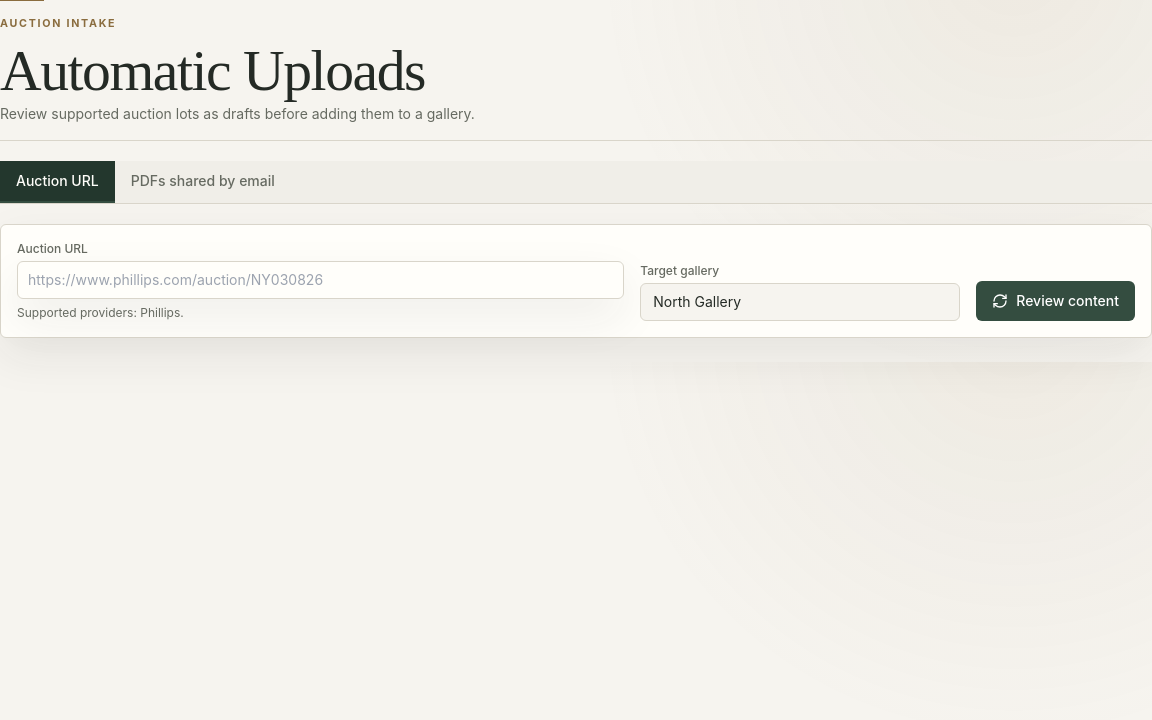
Test: AutomaticUploadsPage › lists emailed PDFs inside Automatic Uploads and opens their drafts
The width and height of the screenshot is (1152, 720).
Click the tab "PDFs shared by email".
click(203, 182)  # box [115,161,291,203]
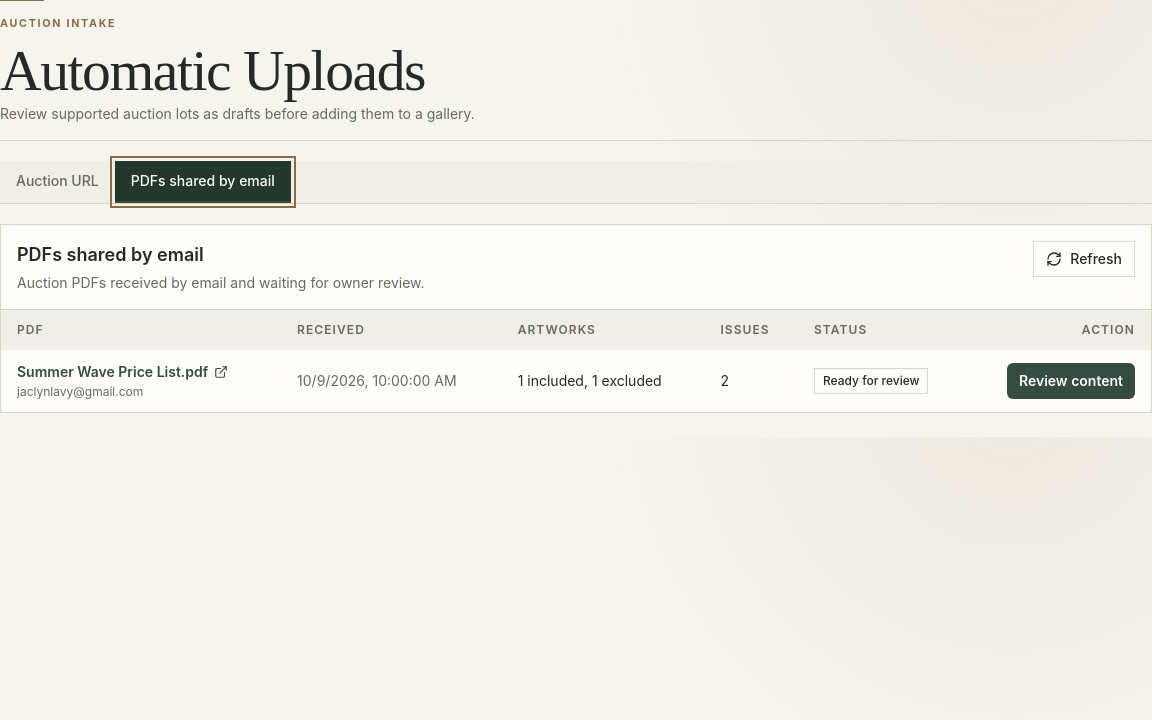
Expected: the button "Summer Wave Price List.pdf" is shown
Expected: the text "jaclynlavy@gmail.com" is shown, [17,384,143,399]
Expected: the text "Ready for review" is shown, [814,368,928,394]
Click the button with aria-label "Open Summer Wave Price List.pdf".
click(123, 372)  # box [17,362,228,382]
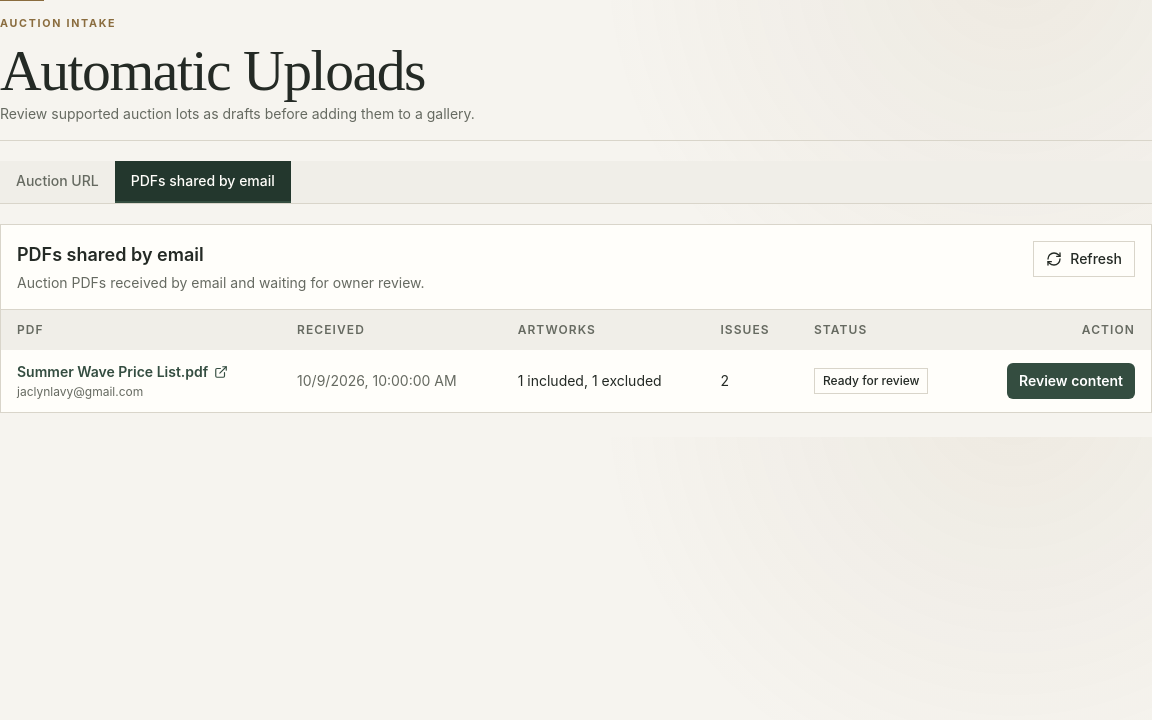
Click the button "Review content".
click(1071, 381)  # box [1007,363,1135,399]
(page scrolled)
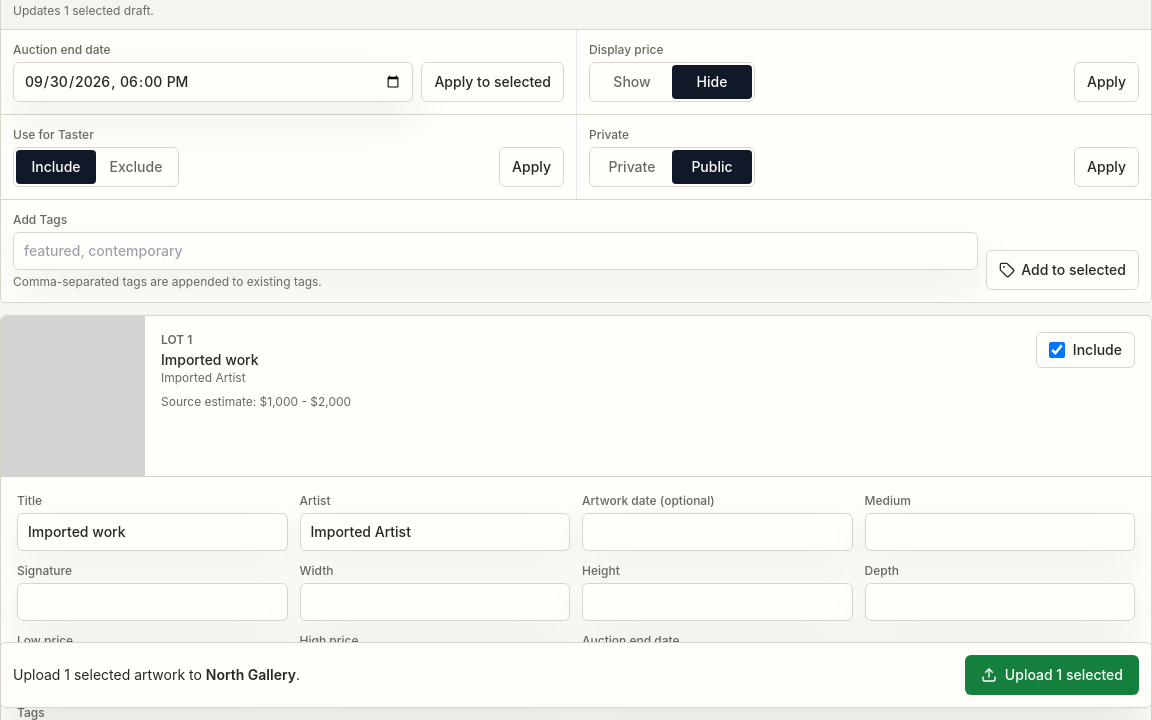
Expected: the text "Imported work" is shown, [161,350,258,370]
